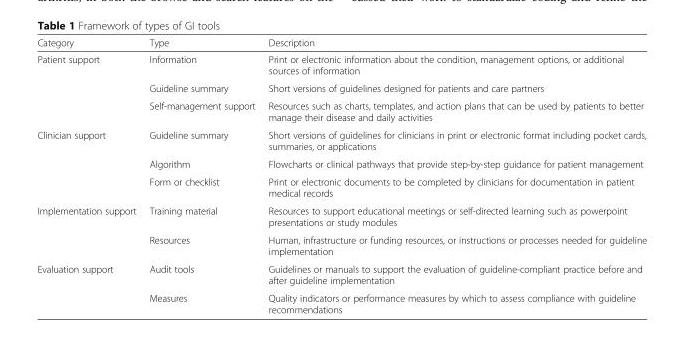table: (36, 36, 646, 314)
table column: (261, 36, 646, 314), (142, 36, 261, 314), (36, 36, 142, 314)
table column header: (36, 36, 646, 50)
table row: (36, 96, 646, 125), (36, 125, 646, 154), (36, 172, 646, 201), (36, 201, 646, 230), (36, 230, 646, 259), (36, 259, 646, 288), (36, 50, 646, 78), (36, 288, 646, 314), (36, 78, 646, 96), (36, 154, 646, 172), (36, 36, 646, 50)
table spanning cell: (36, 125, 142, 201), (36, 50, 142, 125), (36, 201, 142, 259), (36, 259, 142, 314)
